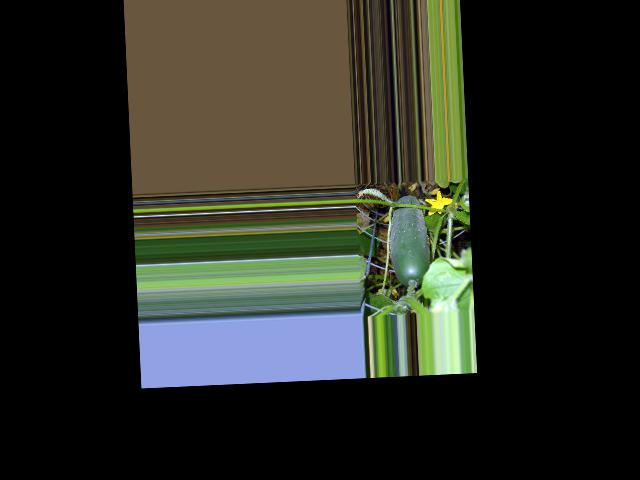cucumber: (386, 195, 430, 287)
